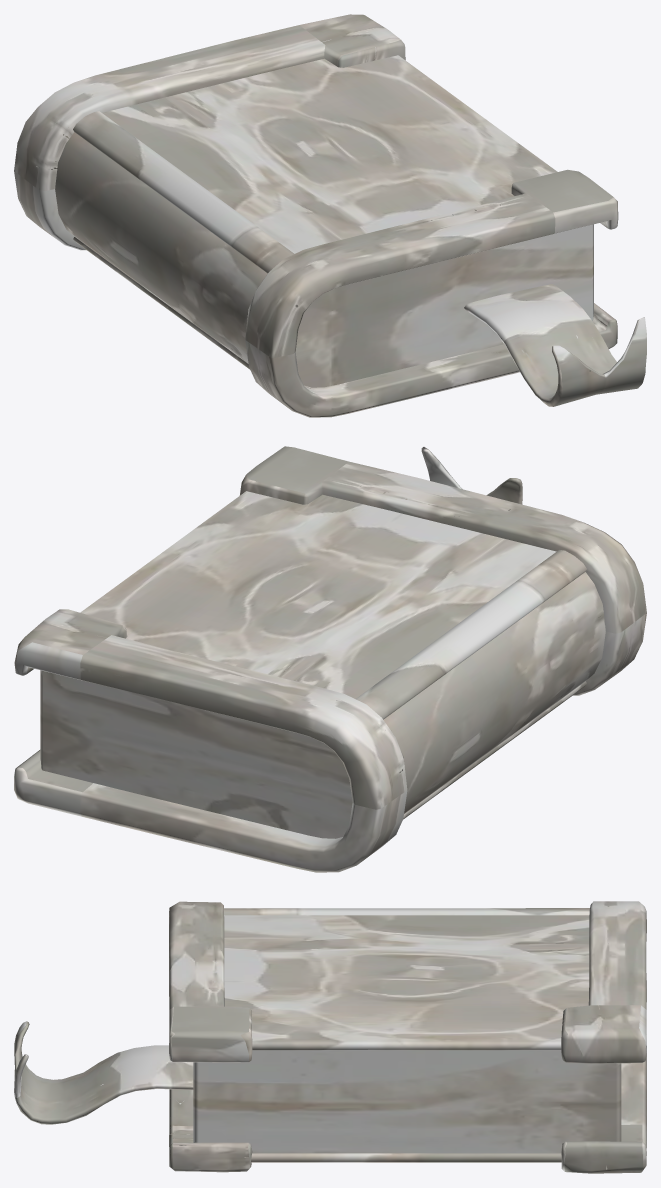
The picture shows the model from 3 angles, top to bottom: view 1: azimuth 30°, elevation 25°; view 2: azimuth 150°, elevation 25°; view 3: azimuth 270°, elevation 25°; orthographic projection. The views are drawn at different scales.
Visible parts, largest first — view 1: SM_Skull_02_LOD0; view 2: SM_Skull_02_LOD0; view 3: SM_Skull_02_LOD0.
Boxes of the visible parts, left/top/right/bottom form: SM_Skull_02_LOD0: left=14, top=14, right=646, bottom=417; SM_Skull_02_LOD0: left=14, top=446, right=646, bottom=872; SM_Skull_02_LOD0: left=14, top=901, right=646, bottom=1173.
Size of the model in its own units: 0.2949 by 0.1242 by 0.5018.
